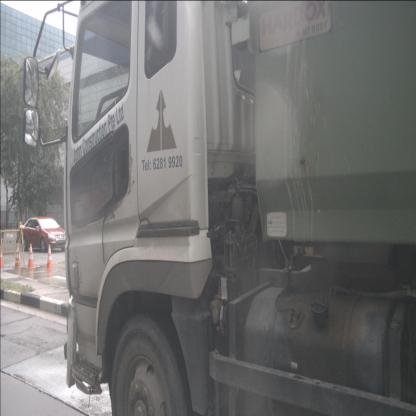cone: (43, 242, 55, 272), (14, 242, 24, 269), (26, 243, 36, 269), (0, 238, 7, 268)
